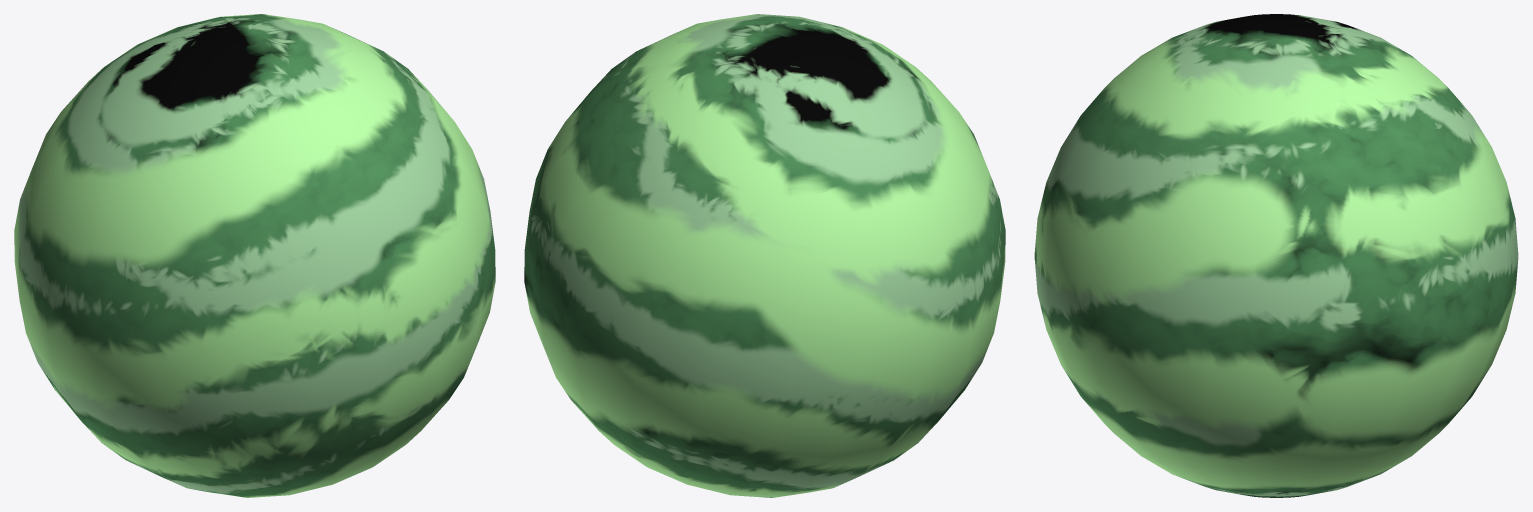
File: Gas Planet.fbx
3 renders of one model, left to right at view 1: azimuth 30°, elevation 25°; view 2: azimuth 150°, elevation 25°; view 3: azimuth 270°, elevation 25°, orthographic.
Visible parts, largest first — view 1: pSphere13; view 2: pSphere13; view 3: pSphere13.
Boxes of the visible parts, x1=… form: pSphere13: x1=14, y1=14, x2=495, y2=497; pSphere13: x1=524, y1=14, x2=1005, y2=497; pSphere13: x1=1034, y1=14, x2=1518, y2=497.
Bounding box in the file's own units: 71.15 × 71.15 × 71.19.
1 material, 1 textured.
